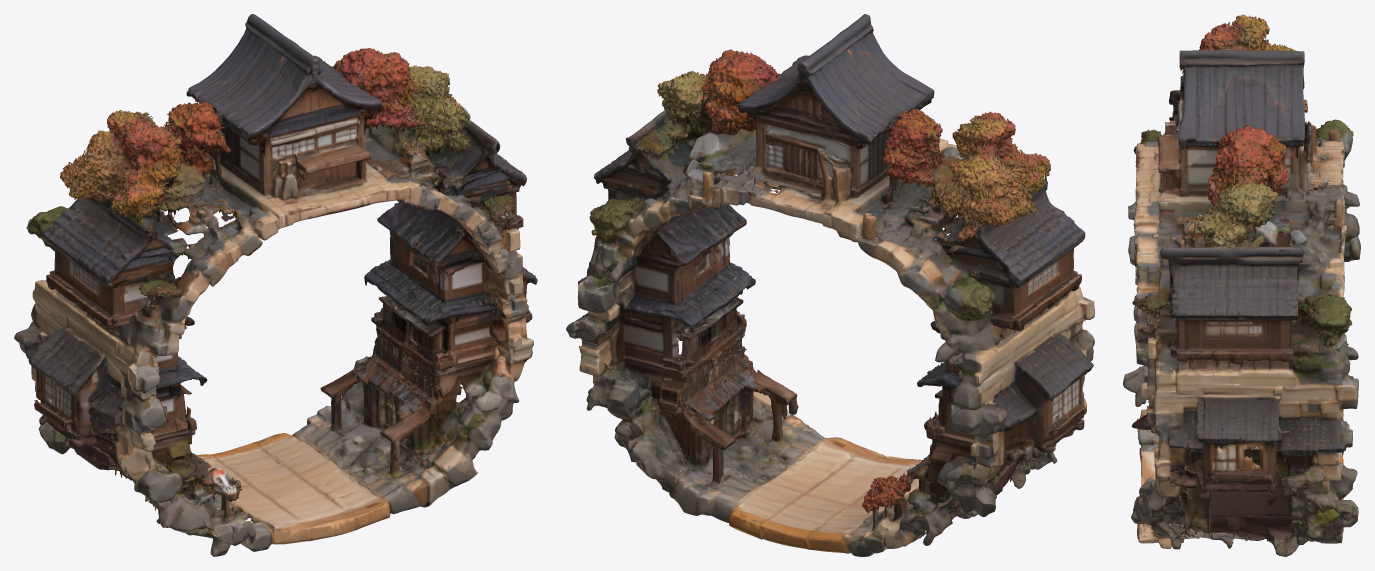
File: Meshy_AI_Ring_Village_Diorama_1016084950_texture.fbx
3 renders of one model, left to right at view 1: azimuth 30°, elevation 25°; view 2: azimuth 150°, elevation 25°; view 3: azimuth 270°, elevation 25°, orthographic. The views are drawn at different scales.
Parts seen in each view (by area): view 1: Mesh_0; view 2: Mesh_0; view 3: Mesh_0.
Part boxes in pixels (x1,y1,x2,y2): Mesh_0: (14, 14, 537, 556); Mesh_0: (566, 14, 1094, 556); Mesh_0: (1123, 14, 1360, 556).
Size of the model in its own units: 200 by 193 by 89.79.
1 material, 1 textured.
